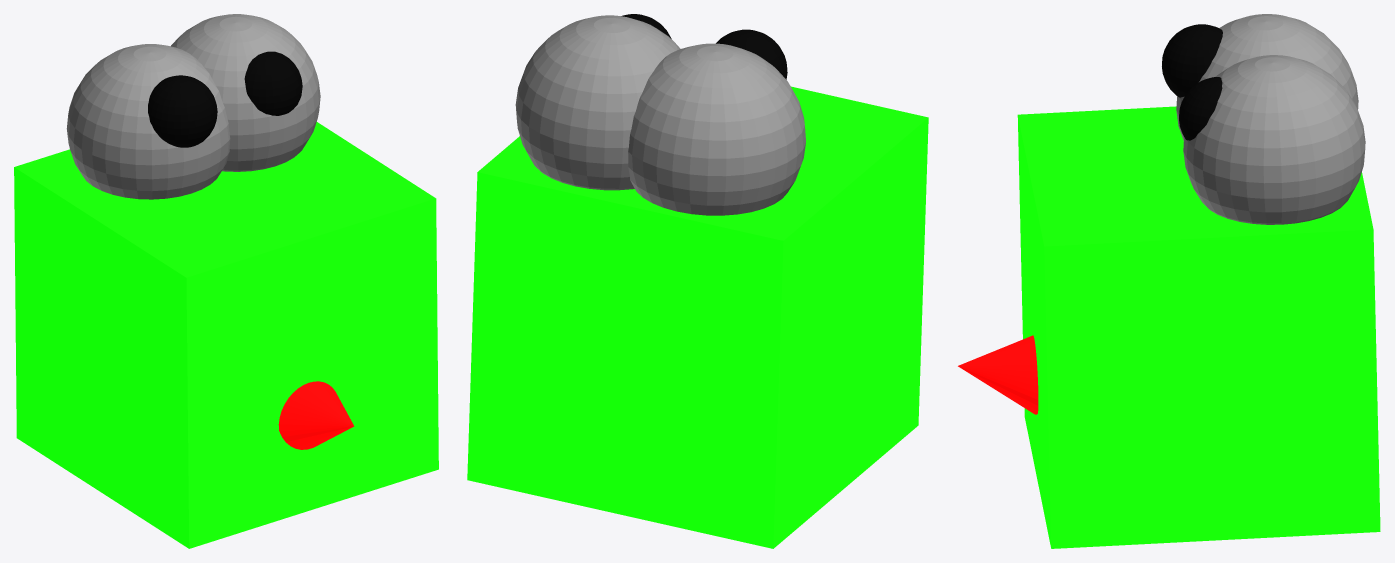
The model's file is mySnakeHead.fbx.
The picture shows the model from 3 angles, left to right: view 1: azimuth 30°, elevation 25°; view 2: azimuth 150°, elevation 25°; view 3: azimuth 270°, elevation 25°; orthographic projection. The views are drawn at different scales.
Parts seen in each view (by area): view 1: Cone; view 2: Cone; view 3: Cone.
Boxes of the visible parts, x1=… form: Cone: x1=14, y1=14, x2=438, y2=548; Cone: x1=467, y1=14, x2=928, y2=548; Cone: x1=958, y1=14, x2=1380, y2=548.
Bounding box in the file's own units: 173 × 232 × 202.
